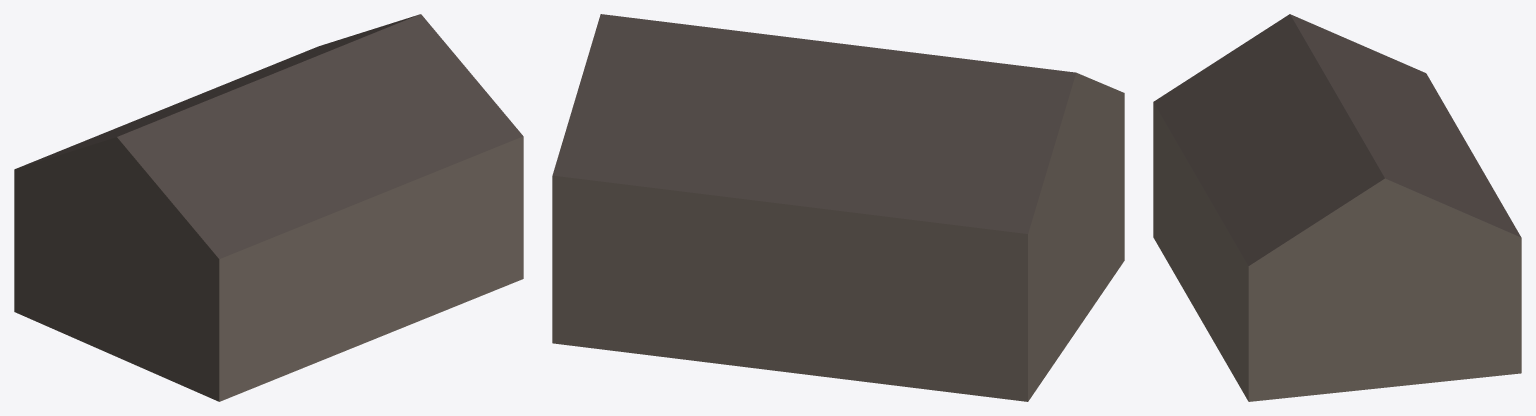
The picture shows the model from 3 angles, left to right: view 1: azimuth 30°, elevation 25°; view 2: azimuth 150°, elevation 25°; view 3: azimuth 270°, elevation 25°; orthographic projection. The views are drawn at different scales.
Parts seen in each view (by area): view 1: HP-w859488810; view 2: HP-w859488810; view 3: HP-w859488810.
Part boxes in pixels (box(x1,y1,x2,y2)): HP-w859488810: box(14, 14, 523, 401); HP-w859488810: box(552, 14, 1124, 401); HP-w859488810: box(1153, 14, 1521, 401).
Bounding box in the file's own units: 18.29 × 9.25 × 14.75.
